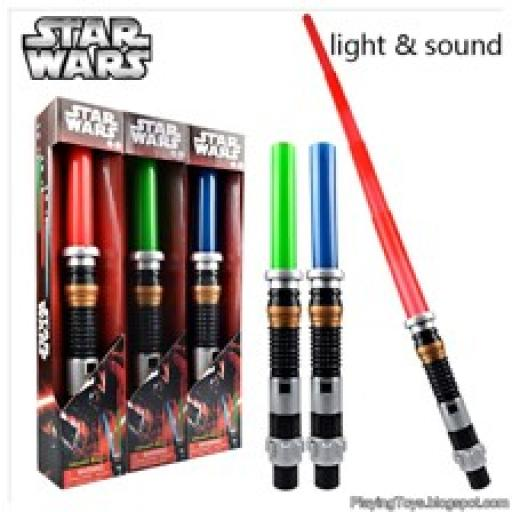lightsaber: (304, 141, 347, 490), (262, 141, 305, 489), (132, 153, 170, 393), (191, 170, 228, 389)
sith saber: (298, 9, 492, 492), (62, 138, 108, 408)
